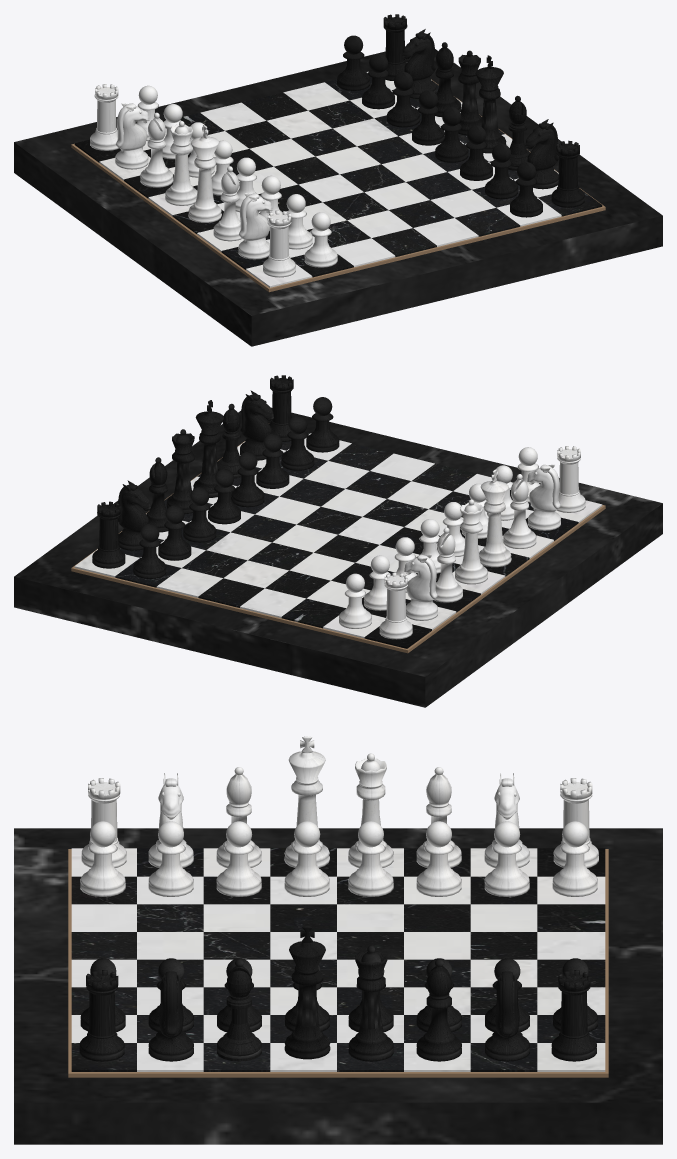
The model's file is chess-board.glb.
3 renders of one model, top to bottom at view 1: azimuth 30°, elevation 25°; view 2: azimuth 150°, elevation 25°; view 3: azimuth 270°, elevation 25°, orthographic. The views are drawn at different scales.
Visible parts, largest first — view 1: Chess Board, W_King, W_Knight_2, W_Knight_1, B_Knight_1, W_Queen, B_Knight_2, B_King, B_Rook_1, W_Rook_1, W_Rook_2, W_Bishop_2 (+20 smaller); view 2: Chess Board, W_King, W_Knight_1, W_Knight_2, W_Queen, B_Knight_2, B_Knight_1, B_King, B_Rook_2, W_Rook_2, W_Rook_1, B_Queen (+21 smaller); view 3: Chess Board, B_King, B_Queen, B_Rook_2, B_Rook_1, B_Bishop_2, B_Bishop_1, W_King, B_Knight_1, B_Knight_2, W_Pawn_4, W_Pawn_8 (+21 smaller).
Boxes of the visible parts, bbox=[...] form: Chess Board: bbox=[14, 49, 662, 346]; W_King: bbox=[188, 125, 221, 222]; W_Knight_2: bbox=[115, 103, 149, 169]; W_Knight_1: bbox=[238, 193, 272, 259]; B_Knight_1: bbox=[525, 119, 558, 189]; W_Queen: bbox=[165, 121, 197, 205]; B_Knight_2: bbox=[402, 29, 436, 98]; B_King: bbox=[475, 55, 506, 153]; B_Rook_1: bbox=[551, 140, 584, 207]; W_Rook_1: bbox=[263, 210, 295, 277]; W_Rook_2: bbox=[90, 84, 118, 150]; W_Bishop_2: bbox=[140, 112, 173, 187]; Chess Board: bbox=[14, 407, 662, 707]; W_King: bbox=[479, 469, 511, 567]; W_Knight_1: bbox=[527, 464, 560, 530]; W_Knight_2: bbox=[404, 554, 437, 620]; W_Queen: bbox=[455, 499, 487, 584]; B_Knight_2: bbox=[118, 480, 150, 550]; B_Knight_1: bbox=[240, 390, 273, 460]; B_King: bbox=[193, 400, 223, 497]; B_Rook_2: bbox=[92, 501, 125, 568]; W_Rook_2: bbox=[379, 572, 412, 639]; W_Rook_1: bbox=[556, 446, 585, 512]; B_Queen: bbox=[166, 429, 194, 514]; Chess Board: bbox=[14, 828, 662, 1144]; B_King: bbox=[284, 926, 330, 1059]; B_Queen: bbox=[348, 945, 393, 1061]; B_Rook_2: bbox=[551, 970, 596, 1061]; B_Rook_1: bbox=[79, 970, 124, 1061]; B_Bishop_2: bbox=[416, 959, 461, 1061]; B_Bishop_1: bbox=[217, 959, 261, 1061]; W_King: bbox=[284, 736, 329, 867]; B_Knight_1: bbox=[148, 971, 193, 1061]; B_Knight_2: bbox=[485, 971, 529, 1061]; W_Pawn_4: bbox=[284, 821, 329, 896]; W_Pawn_8: bbox=[552, 821, 597, 896].
Size of the model in its own units: 17.78 by 5.28 by 17.78.
6 materials, 5 textured.
